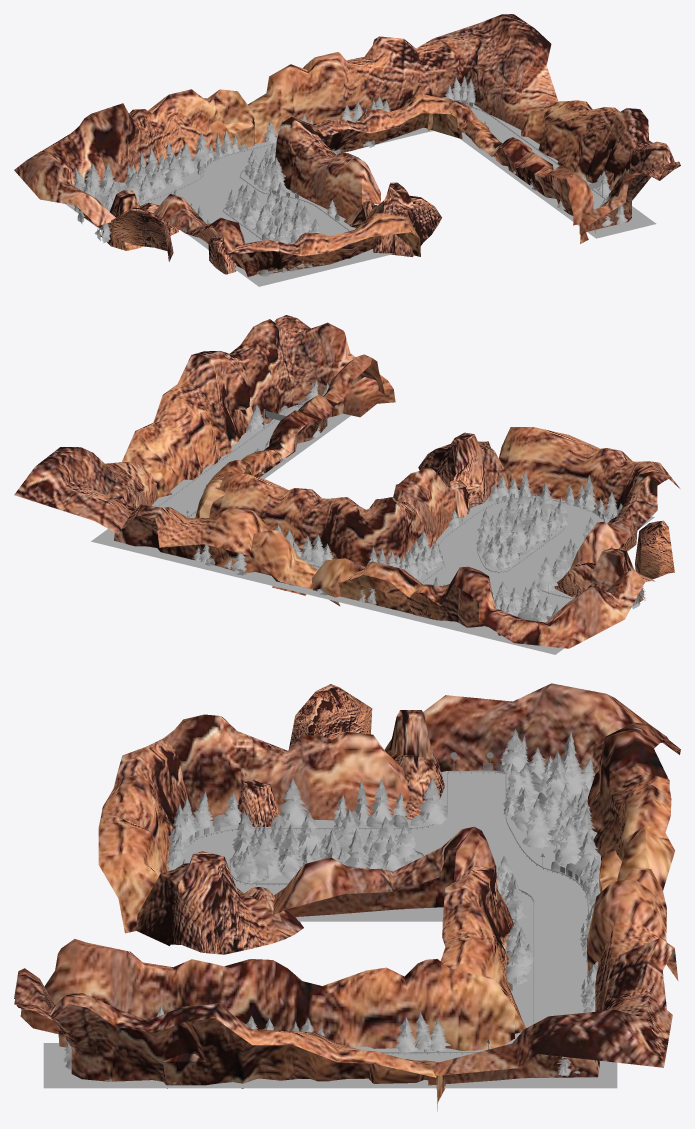
Rendered from Tuterial.fbx.
The picture shows the model from 3 angles, top to bottom: view 1: azimuth 30°, elevation 25°; view 2: azimuth 150°, elevation 25°; view 3: azimuth 270°, elevation 25°; orthographic projection. The views are drawn at different scales.
Parts seen in each view (by area): view 1: Mountain, Plants, Ground; view 2: Mountain, Ground, Plants; view 3: Mountain, Plants, Ground.
Boxes of the visible parts, x1=… form: Mountain: x1=14, y1=14, x2=680, y2=276; Plants: x1=73, y1=76, x2=627, y2=276; Ground: x1=65, y1=100, x2=656, y2=286; Mountain: x1=14, y1=315, x2=679, y2=648; Ground: x1=91, y1=405, x2=654, y2=654; Plants: x1=127, y1=380, x2=645, y2=626; Mountain: x1=14, y1=683, x2=680, y2=1111; Plants: x1=64, y1=729, x2=600, y2=1083; Ground: x1=43, y1=770, x2=617, y2=1088.
Size of the model in its own units: 204 by 29.39 by 149.
